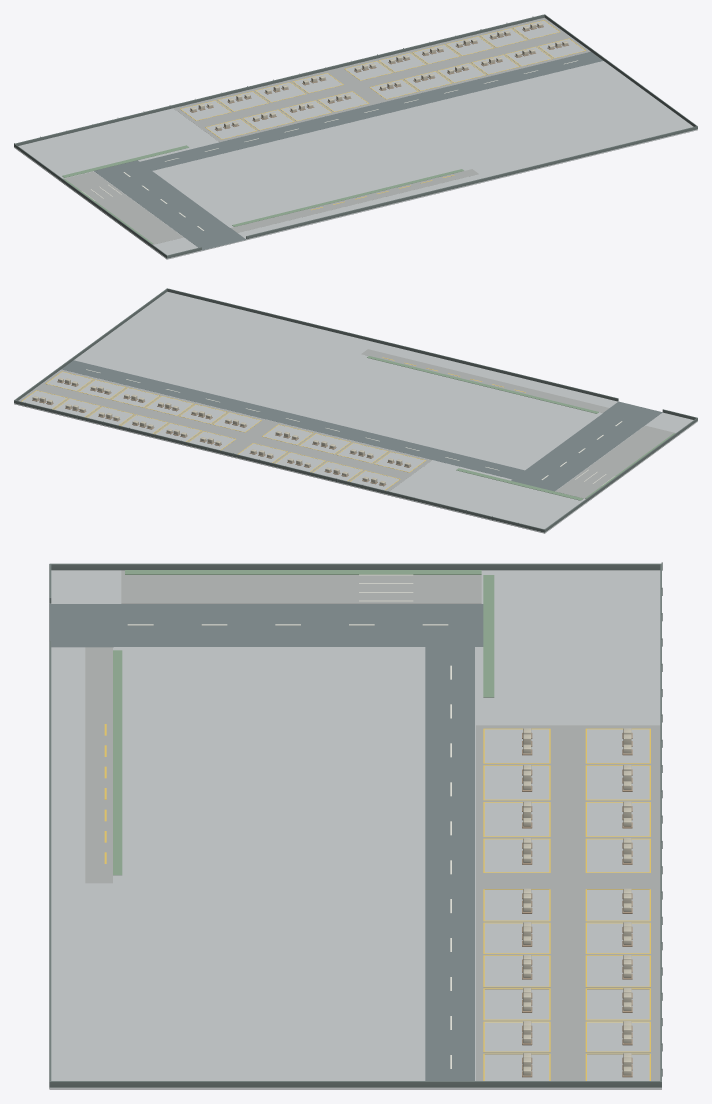
File: ground.glb
3 views of the same model, one above another, from view 1: azimuth 30°, elevation 25°; view 2: azimuth 150°, elevation 25°; view 3: azimuth 270°, elevation 25° (orthographic). The views are drawn at different scales.
Parts seen in each view (by area): view 1: site ground, north storage pavement, east west vehicle lane, west vehicle lane, west hardstand, site perimeter (21, 28, 1352, 30), site perimeter (220, 691, 1352, 693), main building apron, planted strip 229-614, south entry, site perimeter (21, 28, 23, 693), site perimeter (1350, 28, 1352, 693) (+21 smaller); view 2: site ground, east west vehicle lane, north storage pavement, west vehicle lane, west hardstand, site perimeter (21, 28, 1352, 30), site perimeter (220, 691, 1352, 693), main building apron, planted strip 229-614, south entry, site perimeter (21, 28, 23, 693), site perimeter (1350, 28, 1352, 693) (+21 smaller); view 3: site ground, north storage pavement, east west vehicle lane, west vehicle lane, west hardstand, main building apron, site perimeter (21, 28, 23, 693), site perimeter (1350, 28, 1352, 693), south entry, planted strip 229-614, storage pad 2-3, storage pad 2-2 (+22 smaller).
Part boxes in pixels (box(x1,y1,x2,y2)): site ground: box(14, 18, 697, 259); north storage pavement: box(174, 18, 590, 141); east west vehicle lane: box(140, 52, 603, 170); west vehicle lane: box(94, 160, 229, 238); west hardstand: box(59, 171, 183, 245); site perimeter (21, 28, 1352, 30): box(14, 14, 544, 146); site perimeter (220, 691, 1352, 693): box(246, 126, 697, 239); main building apron: box(231, 169, 478, 232); planted strip 229-614: box(232, 169, 463, 226); south entry: box(186, 228, 245, 250); site perimeter (21, 28, 23, 693): box(14, 144, 167, 258); site perimeter (1350, 28, 1352, 693): box(544, 14, 696, 126); site ground: box(14, 291, 697, 533); east west vehicle lane: box(61, 360, 524, 479); north storage pavement: box(19, 369, 431, 491); west vehicle lane: box(511, 413, 646, 491); west hardstand: box(555, 425, 679, 499); site perimeter (21, 28, 1352, 30): box(14, 400, 544, 532); site perimeter (220, 691, 1352, 693): box(167, 288, 618, 401); main building apron: box(361, 349, 609, 412); planted strip 229-614: box(367, 356, 598, 413); south entry: box(603, 401, 662, 423); site perimeter (21, 28, 23, 693): box(544, 417, 697, 532); site perimeter (1350, 28, 1352, 693): box(15, 288, 167, 400); site ground: box(49, 570, 661, 1089); north storage pavement: box(476, 725, 660, 1080); east west vehicle lane: box(425, 647, 474, 1080); west vehicle lane: box(114, 604, 483, 646); west hardstand: box(121, 570, 481, 603); main building apron: box(85, 647, 112, 883); site perimeter (21, 28, 23, 693): box(50, 563, 661, 570); site perimeter (1350, 28, 1352, 693): box(49, 1081, 661, 1087); south entry: box(49, 604, 113, 647); planted strip 229-614: box(113, 650, 122, 875); storage pad 2-3: box(484, 802, 549, 836); storage pad 2-2: box(484, 766, 549, 799).
Size of the model in its own units: 155 by 1.43 by 77.39.
